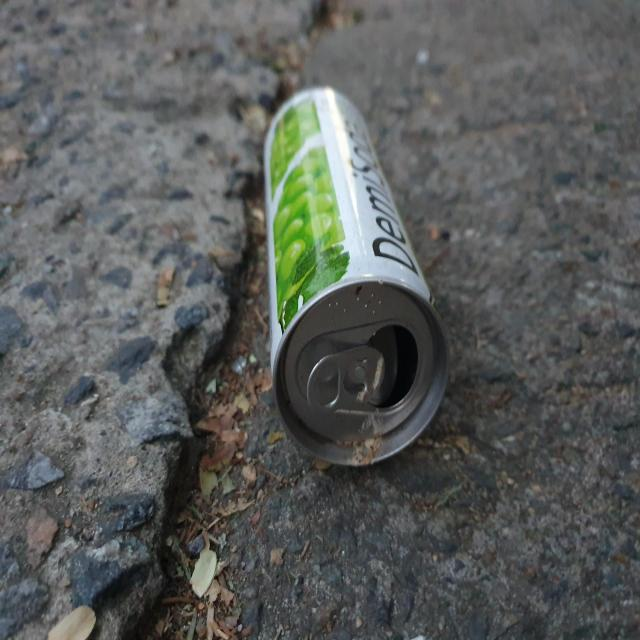can: (264, 86, 448, 466)
